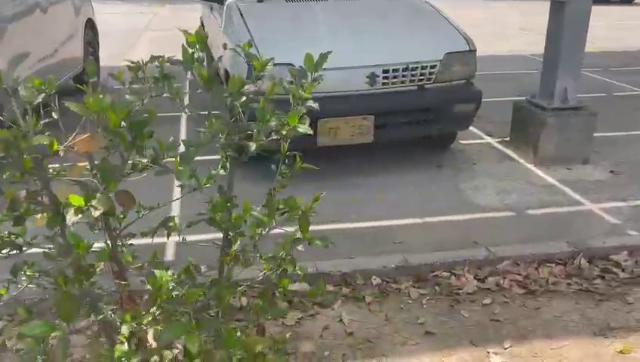plate: (316, 111, 376, 154)
